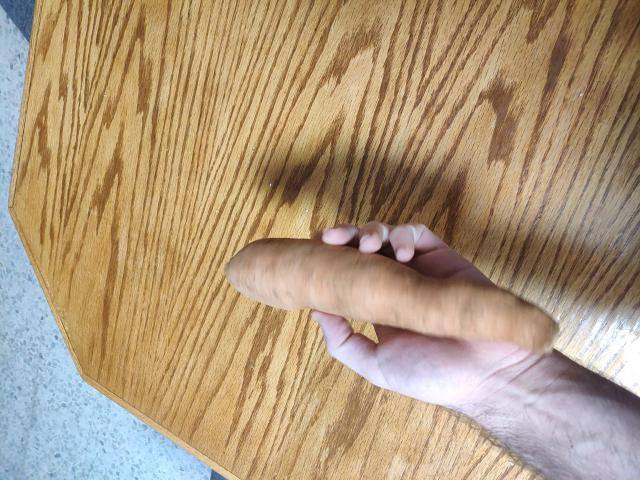sweet_potato: (209, 219, 538, 362)
